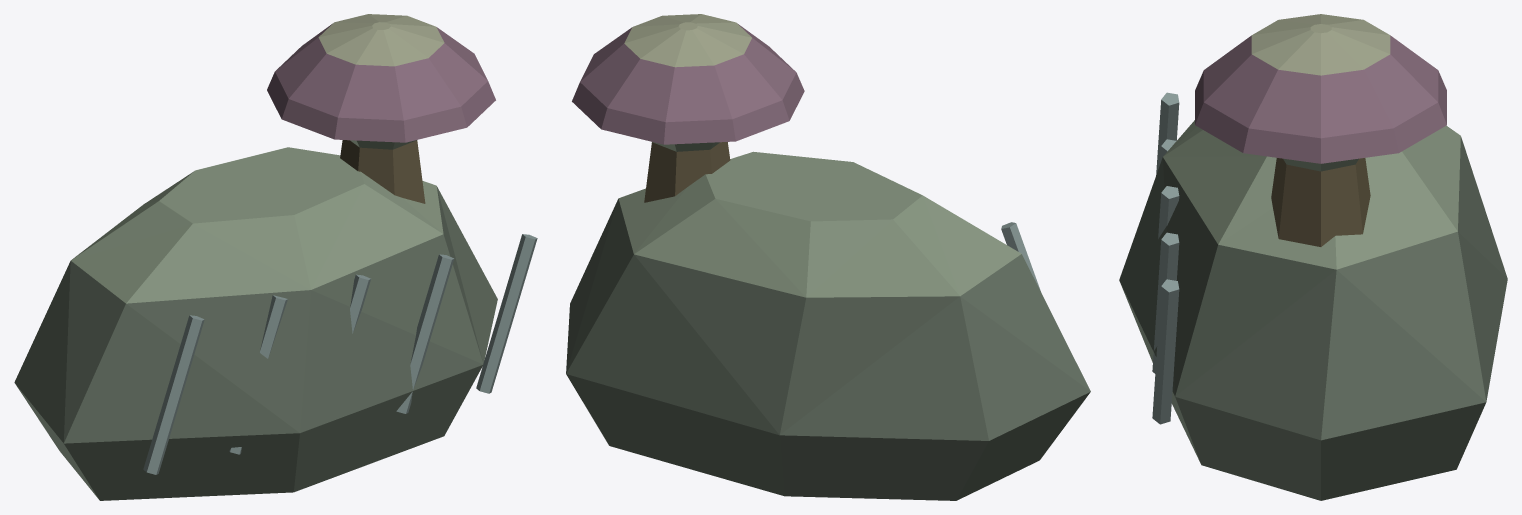
File: mycelium-rock.glb
3 renders of one model, left to right at view 1: azimuth 30°, elevation 25°; view 2: azimuth 150°, elevation 25°; view 3: azimuth 270°, elevation 25°, orthographic. The views are drawn at different scales.
Visible parts, largest first — view 1: mycelium-rock__body; view 2: mycelium-rock__body; view 3: mycelium-rock__body.
Boxes of the visible parts, box(x1,y1,x2,y2) form: mycelium-rock__body: box(14, 14, 537, 500); mycelium-rock__body: box(566, 14, 1090, 500); mycelium-rock__body: box(1119, 14, 1507, 500).
Bounding box in the file's own units: 1.42 × 1.08 × 0.8798.
